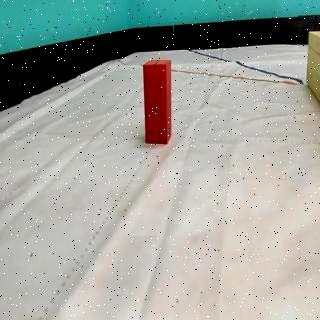redbox: (143, 58, 172, 145)
